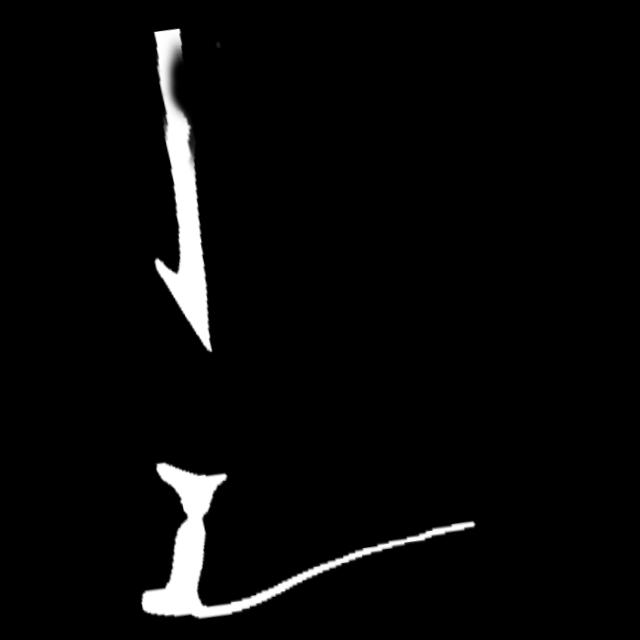sl: (142, 37, 211, 161)
